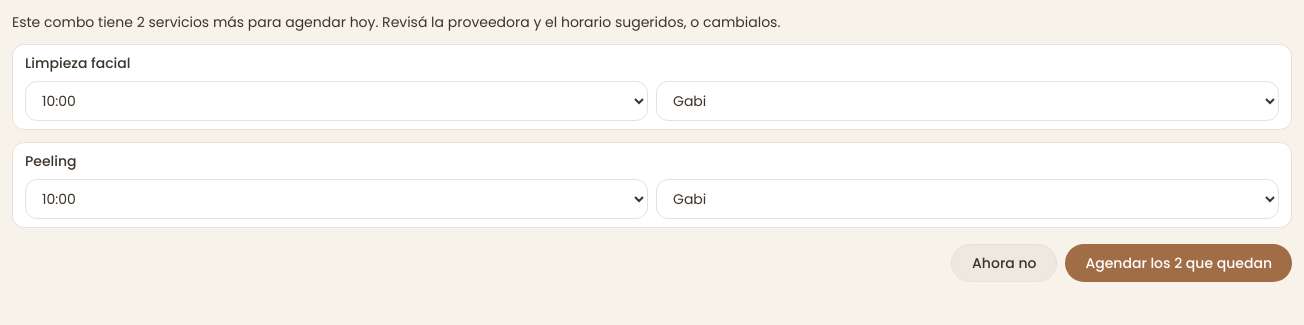
Test case: ComboPendientesPanel › después de una falla parcial, reintentar no vuelve a mandar la fila que ya se agendó
Click the button "Agendar los 2 que quedan": (1179, 263) 1065,244 -> 1292,282
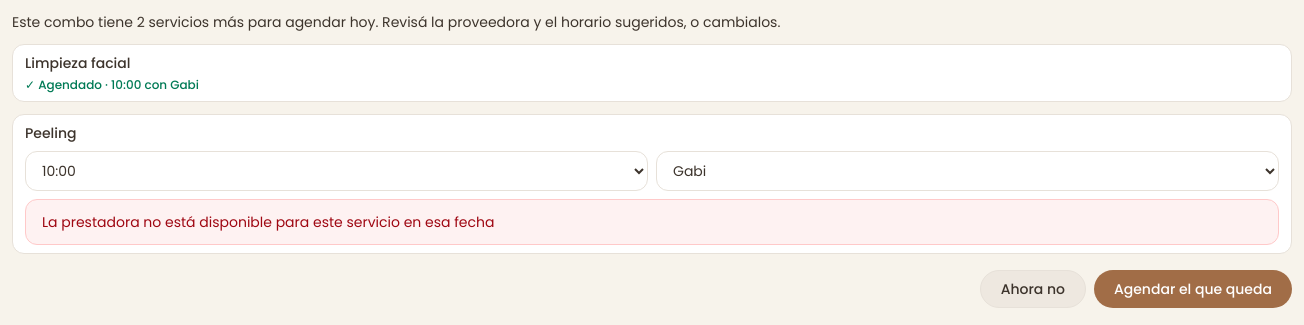
expect the text "✓ Agendado · 10:00 con Gabi" is shown: met, box 25,76 -> 199,93
Note: Reintento: sólo debería mandar la que falló.
Click the button "Agendar el que queda": (1193, 289) 1094,270 -> 1292,308
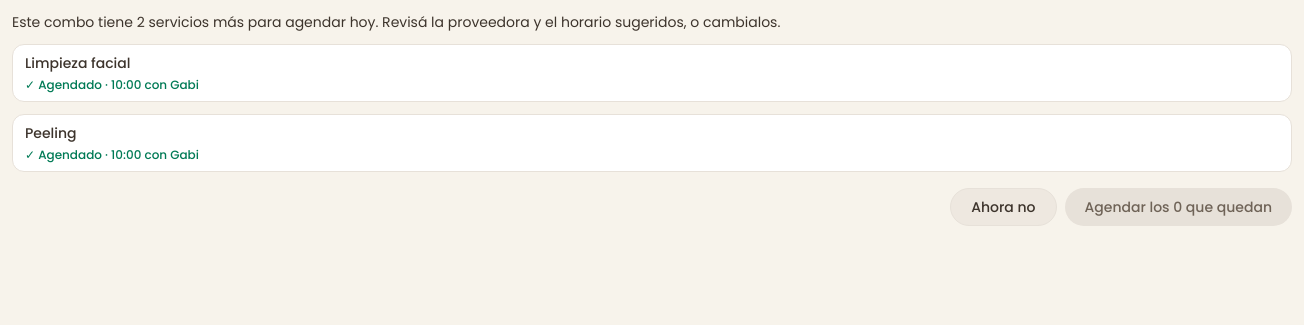
expect the text "✓ Agendado · 10:00 con Gabi" is shown 2 times: met, box 25,76 -> 199,93; 25,146 -> 199,163
expect the text "no está disponible" is gone: met
